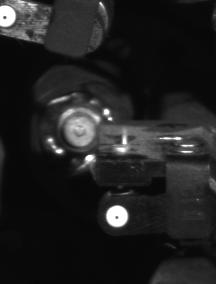fiber: (100, 199, 135, 234), (1, 3, 23, 33)
